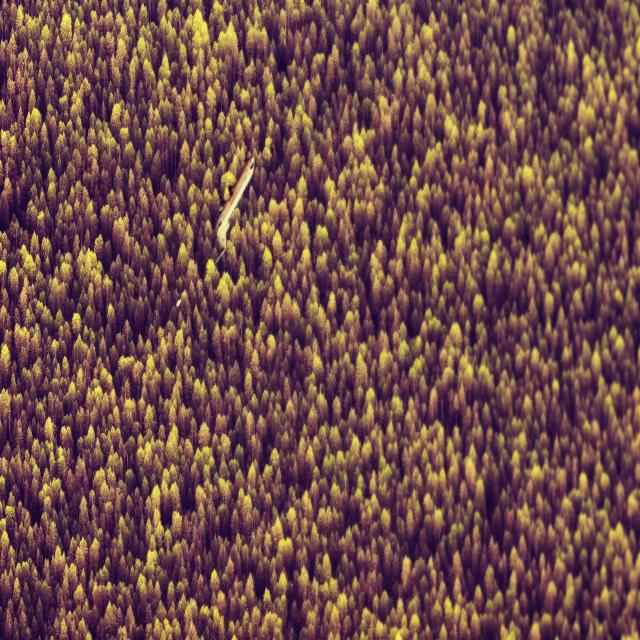airplane: (214, 154, 255, 255)
